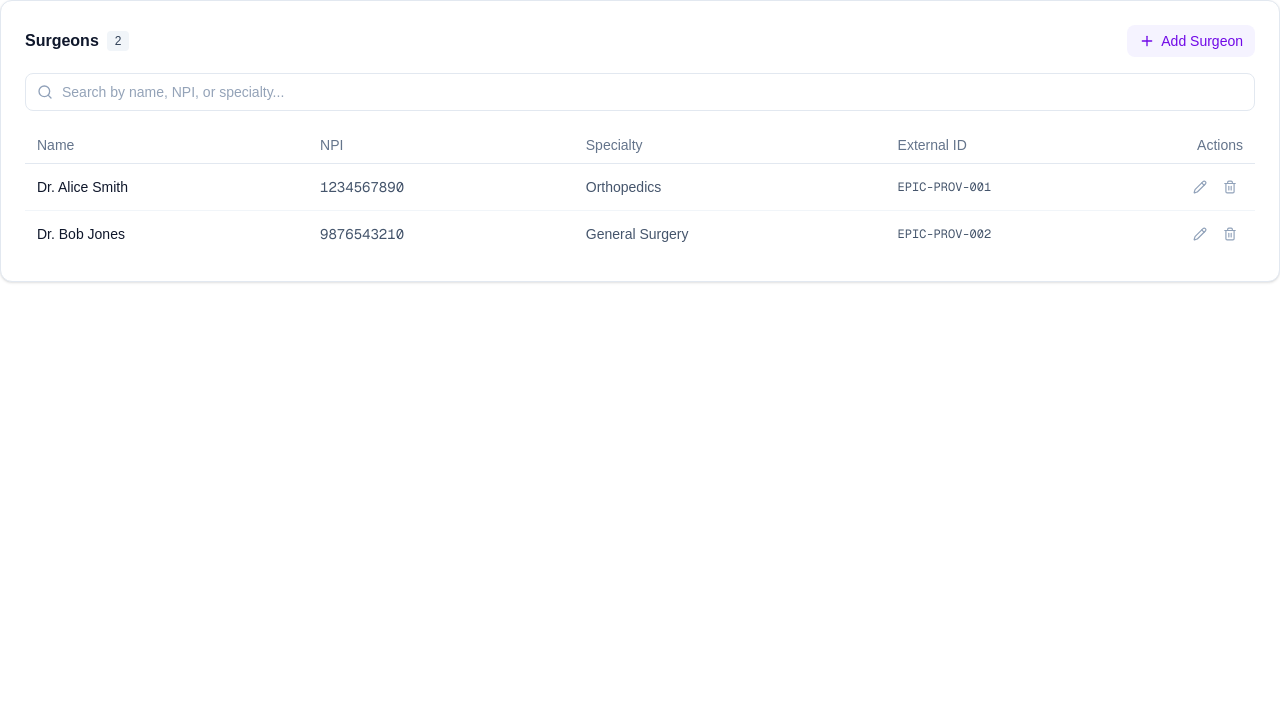
Test case: SurgeonPool - Unit Tests › opens add form when clicking Add Surgeon button
Click the button "Add Surgeon" at (1191, 41), box [1127,25,1255,57]
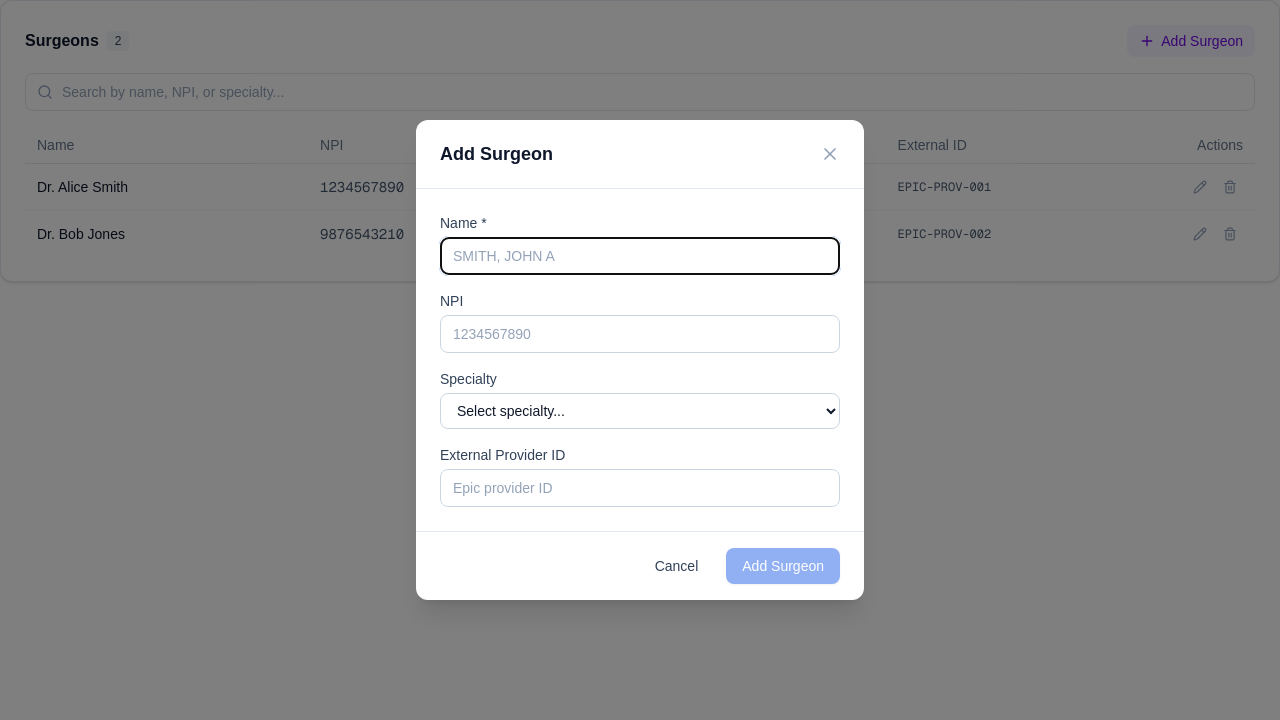
expect the dialog is shown: met, box [416,120,864,600]
